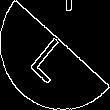L_NE: (28, 26, 82, 84)
